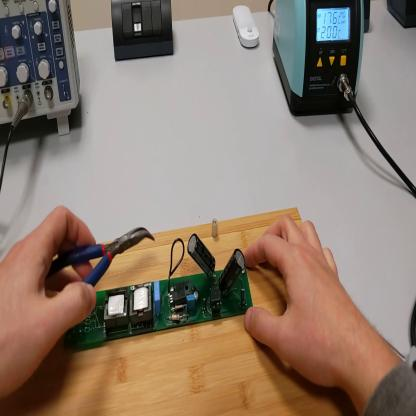hand: (243, 215, 356, 389), (2, 211, 101, 403)
high voltage board: (64, 233, 254, 353)
oscilloscope: (2, 3, 84, 147)
pliers: (47, 224, 158, 308)
screwdriver-: (406, 300, 416, 374)
socket: (388, 3, 416, 29), (365, 2, 372, 36)
welder station: (273, 1, 366, 120)
working area: (3, 209, 358, 416)
